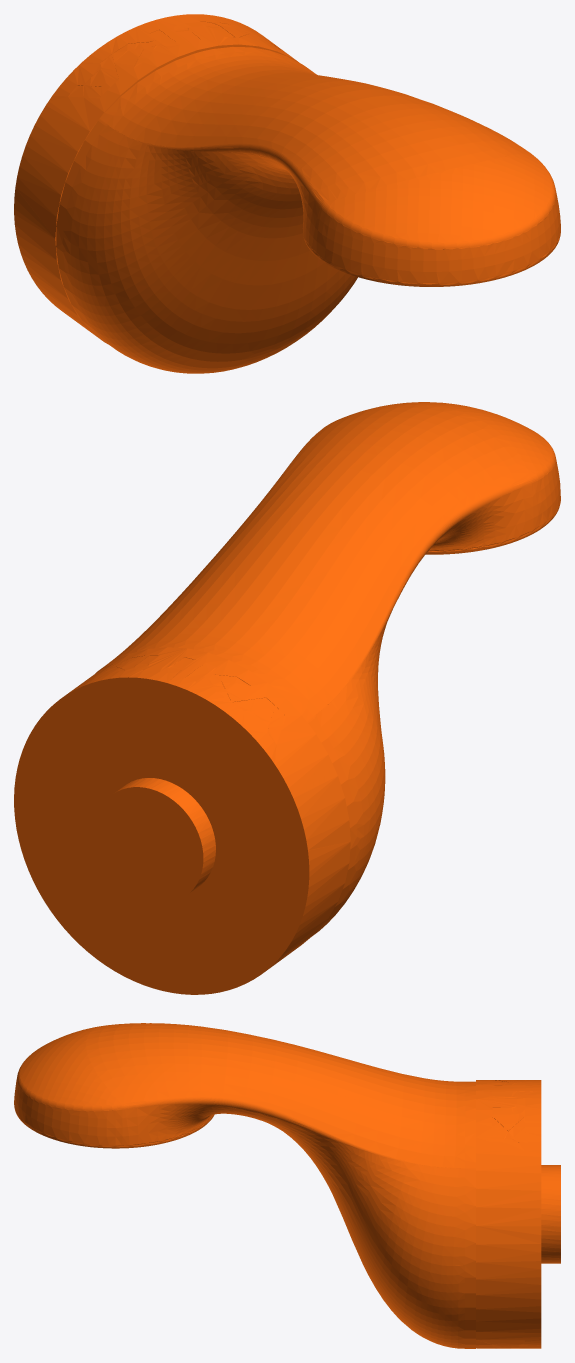
Rendered from iiwa_link_5_visuals_link_5_mesh.obj.
3 renders of one model, top to bottom at view 1: azimuth 30°, elevation 25°; view 2: azimuth 150°, elevation 25°; view 3: azimuth 270°, elevation 25°, orthographic. The views are drawn at different scales.
Bounding box in the file's own units: 0.1362 × 0.1671 × 0.277.
